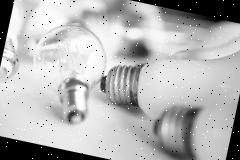lightbulb: (87, 14, 240, 160), (21, 16, 114, 128), (18, 0, 76, 63), (0, 29, 25, 86)
